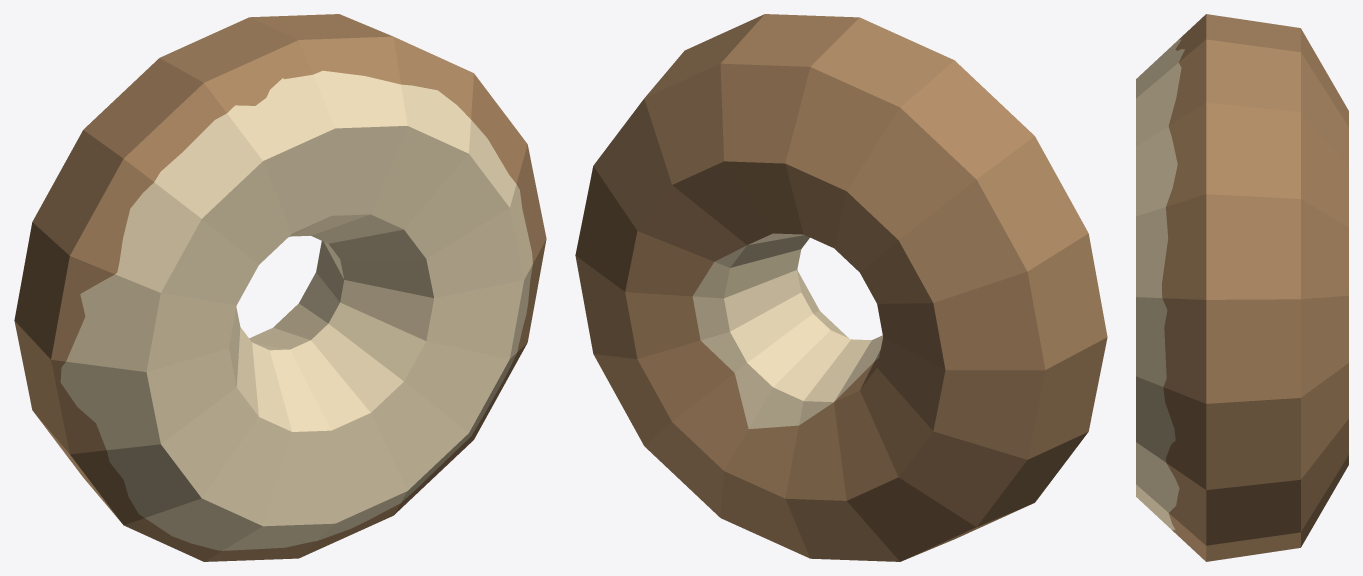
The picture shows the model from 3 angles, left to right: view 1: azimuth 30°, elevation 25°; view 2: azimuth 150°, elevation 25°; view 3: azimuth 270°, elevation 25°; orthographic projection. The views are drawn at different scales.
Visible parts, largest first — view 1: glazed donut; view 2: glazed donut; view 3: glazed donut.
Boxes of the visible parts, x1=… form: glazed donut: x1=14, y1=14, x2=546, y2=561; glazed donut: x1=575, y1=14, x2=1107, y2=561; glazed donut: x1=1136, y1=14, x2=1348, y2=561.
Size of the model in its own units: 7.34 by 7.34 by 2.85.
